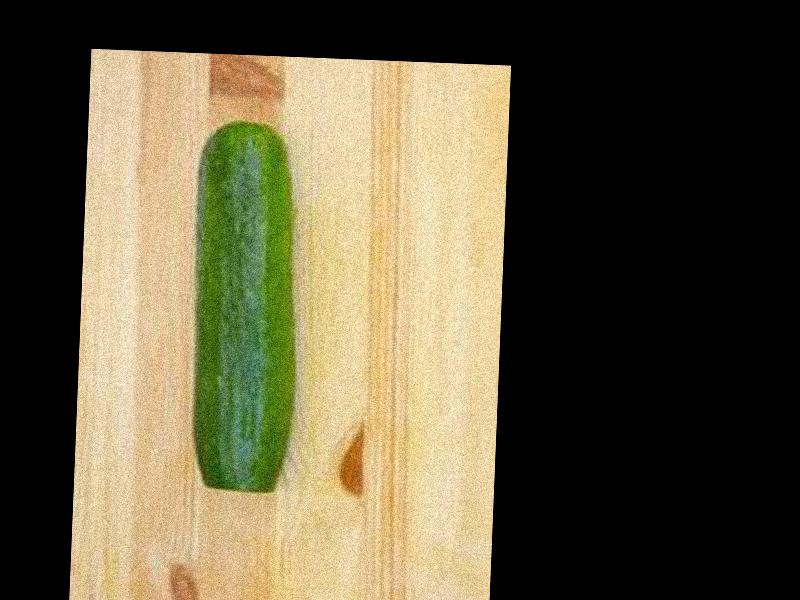Cucumber: (186, 120, 301, 491)
